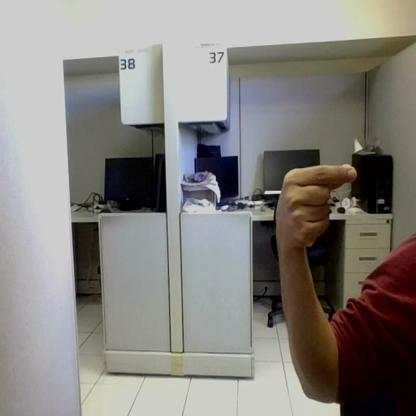G: (281, 164, 356, 247)
